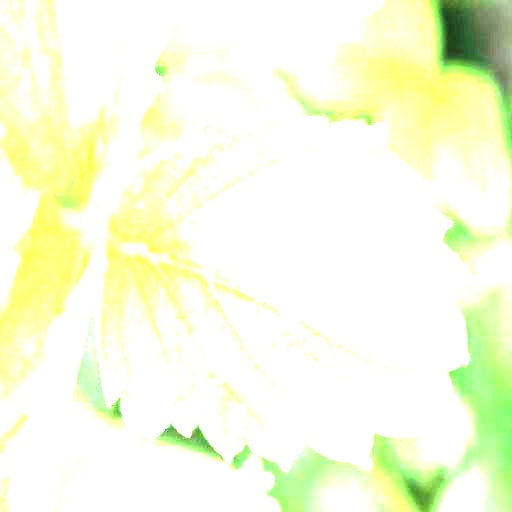Powdery Mildew Leaf: (96, 112, 473, 472), (0, 192, 95, 511)
